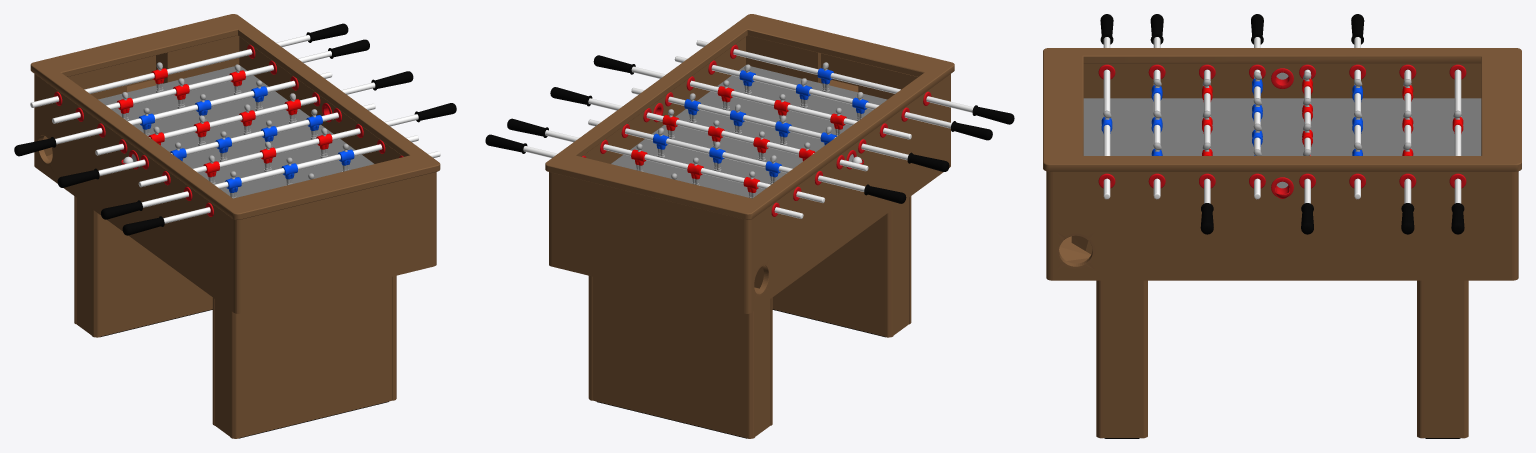
File: Foosball.FBX
The picture shows the model from 3 angles, left to right: view 1: azimuth 30°, elevation 25°; view 2: azimuth 150°, elevation 25°; view 3: azimuth 270°, elevation 25°; orthographic projection. The views are drawn at different scales.
Visible parts, largest first — view 1: mesa pebol, vara pebo1, vara pebo5, vara pebo0, vara pebo2, vara pebo6, vara pebo4, vara pebol, vara pebo3; view 2: mesa pebol, vara pebo5, vara pebo1, vara pebo4, vara pebo6, vara pebo0, vara pebo2, vara pebo3, vara pebol; view 3: mesa pebol, vara pebo0, vara pebo4, vara pebo1, vara pebo5, vara pebol, vara pebo2, vara pebo3, vara pebo6.
Boxes of the visible parts, box(x1,y1,x2,y2) form: mesa pebol: box(30, 14, 440, 438); vara pebo1: box(95, 71, 413, 155); vara pebo5: box(57, 103, 375, 187); vara pebo0: box(52, 39, 369, 123); vara pebo2: box(138, 103, 456, 187); vara pebo6: box(14, 72, 332, 156); vara pebo4: box(101, 135, 418, 219); vara pebol: box(30, 23, 348, 107); vara pebo3: box(122, 151, 440, 235); mesa pebol: box(545, 14, 954, 438); vara pebo5: box(631, 87, 949, 171); vara pebo1: box(550, 87, 868, 171); vara pebo4: box(674, 56, 992, 140); vara pebo6: box(588, 119, 906, 203); vara pebo0: box(507, 118, 825, 202); vara pebo2: box(593, 55, 911, 139); vara pebo3: box(696, 40, 1014, 124); vara pebol: box(485, 134, 803, 218); mesa pebol: box(1043, 48, 1521, 438); vara pebo0: box(1401, 69, 1414, 234); vara pebo4: box(1150, 14, 1163, 199); vara pebo1: box(1301, 69, 1313, 234); vara pebo5: box(1251, 14, 1263, 199); vara pebol: box(1451, 69, 1464, 234); vara pebo2: box(1200, 69, 1213, 234); vara pebo3: box(1100, 14, 1113, 199); vara pebo6: box(1351, 14, 1364, 199).
Size of the model in its own units: 58.41 by 37.2 by 55.91.
